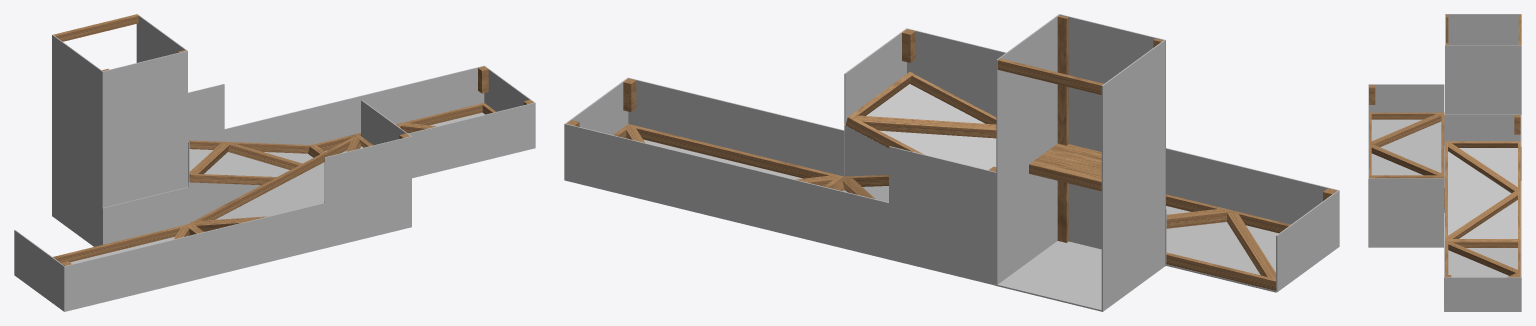
Rendered from TER2.dae.
The picture shows the model from 3 angles, left to right: view 1: azimuth 30°, elevation 25°; view 2: azimuth 150°, elevation 25°; view 3: azimuth 270°, elevation 25°; orthographic projection. The views are drawn at different scales.
Visible parts, largest first — view 1: Programmiereck hoch 1, Programmiereck hoch 3, Längstwand lang 2 flach a, Längstwand lang 2 hoch, Längstwand lang 1 flach a, Längstwand lang 1 flach c, Längstwand lang 2 flach b, Rampe 1, Längstwand lang 2 flach c, Rampe 2, Abschlusswand Ende 2, Längstwand lang 1 flach b (+13 smaller); view 2: Programmiereck hoch 3, Programmiereck hoch 2, Längstwand lang 1 flach a, Längstwand lang 1 hoch, Längstwand lang 1 flach c, Programmiereck hoch 1, Längstwand lang 2 flach a, Rampe 2, Längstwand lang 1 flach b, Längstwand lang 2 hoch, Bodenplatte, Bodenplatte 4 (+16 smaller); view 3: Programmiereck hoch 2, Abschlusswand Mitte hoch 2, Rampe 1, Bodenplatte 4, Abschlusswand Ende 1, Programmiereck hoch 3, Abschlusswand Ende 2, Abschlusswand Mitte hoch 1, Bodenplatte 1, Querbalken 1 d, Querbalken 1 c, Querbalken 2 a (+18 smaller).
Part boxes in pixels (box(x1,y1,x2,y2)): Programmiereck hoch 1: box(102, 51, 187, 244); Programmiereck hoch 3: box(52, 34, 102, 246); Längstwand lang 2 flach a: box(65, 224, 238, 311); Längstwand lang 2 hoch: box(324, 136, 411, 248); Längstwand lang 1 flach a: box(311, 66, 484, 144); Längstwand lang 1 flach c: box(408, 102, 534, 178); Längstwand lang 2 flach b: box(238, 202, 324, 269); Rampe 1: box(188, 149, 313, 222); Längstwand lang 2 flach c: box(102, 187, 188, 244); Rampe 2: box(204, 146, 363, 231); Abschlusswand Ende 2: box(14, 230, 64, 311); Längstwand lang 1 flach b: box(224, 108, 311, 144); Programmiereck hoch 3: box(1101, 39, 1164, 311); Programmiereck hoch 2: box(996, 14, 1059, 285); Längstwand lang 1 flach a: box(565, 123, 781, 233); Längstwand lang 1 hoch: box(889, 146, 996, 285); Längstwand lang 1 flach c: box(628, 78, 844, 176); Programmiereck hoch 1: box(1060, 14, 1165, 266); Längstwand lang 2 flach a: box(1166, 148, 1338, 224); Rampe 2: box(844, 84, 996, 176); Längstwand lang 1 flach b: box(781, 176, 888, 259); Längstwand lang 2 hoch: box(907, 28, 1006, 116); Bodenplatte: box(994, 241, 1101, 311); Bodenplatte 4: box(1166, 206, 1278, 292); Programmiereck hoch 2: box(1445, 45, 1521, 140); Abschlusswand Mitte hoch 2: box(1368, 178, 1444, 247); Rampe 1: box(1444, 146, 1517, 238); Bodenplatte 4: box(1371, 119, 1441, 175); Abschlusswand Ende 1: box(1444, 277, 1521, 311); Programmiereck hoch 3: box(1446, 14, 1521, 45); Abschlusswand Ende 2: box(1368, 84, 1444, 112); Abschlusswand Mitte hoch 1: box(1444, 114, 1520, 176); Bodenplatte 1: box(1448, 248, 1517, 277); Querbalken 1 d: box(1448, 143, 1517, 193); Querbalken 1 c: box(1448, 191, 1517, 238); Querbalken 2 a: box(1371, 114, 1441, 147).
Bounding box in the file's own units: 7.33 × 2.47 × 2.44.
